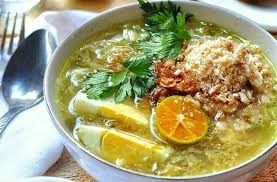soto: (48, 9, 277, 174)
